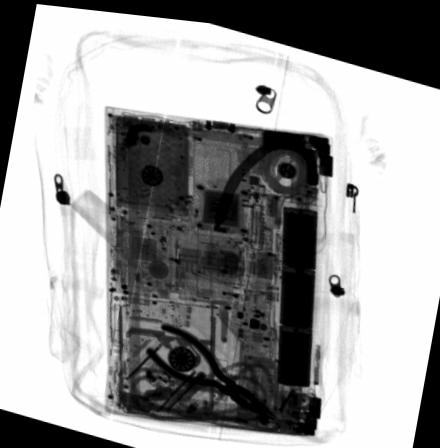Pliers: (144, 317, 280, 415)
